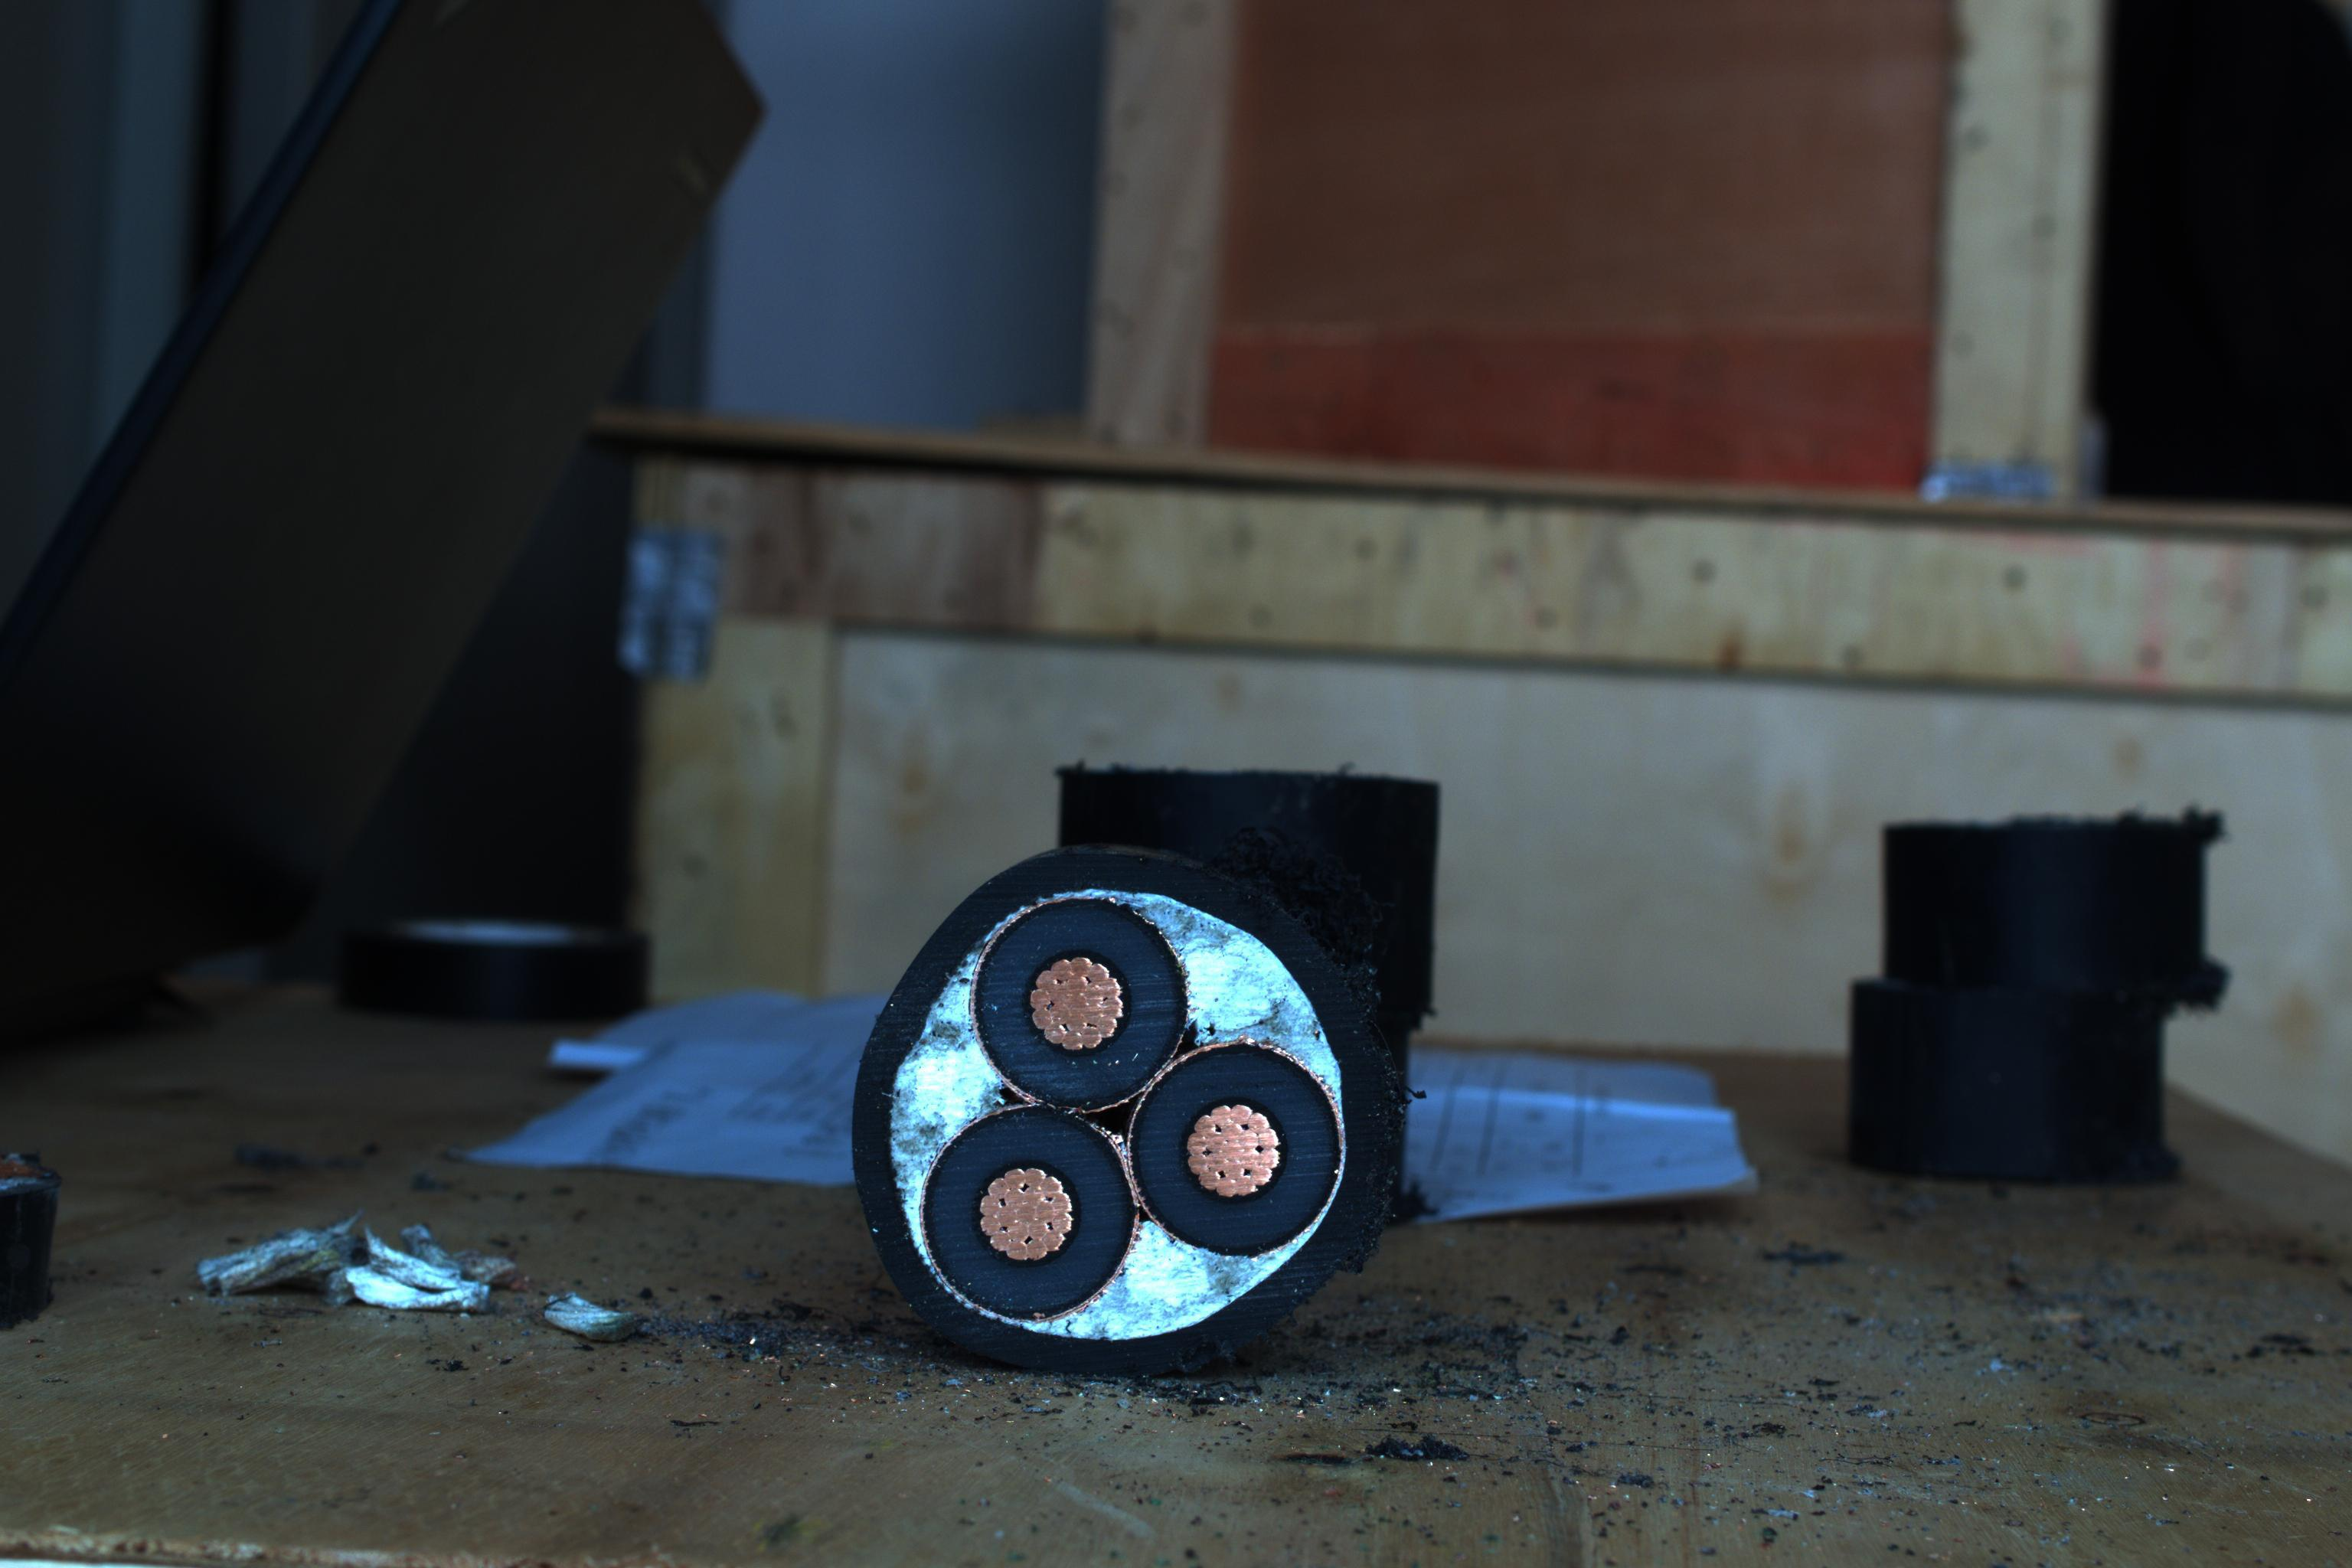YJV_8.7_10kV_3x70: (880, 845, 1372, 1356)
